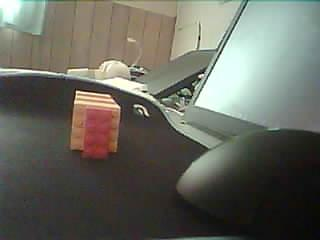lego: (68, 89, 121, 159)
